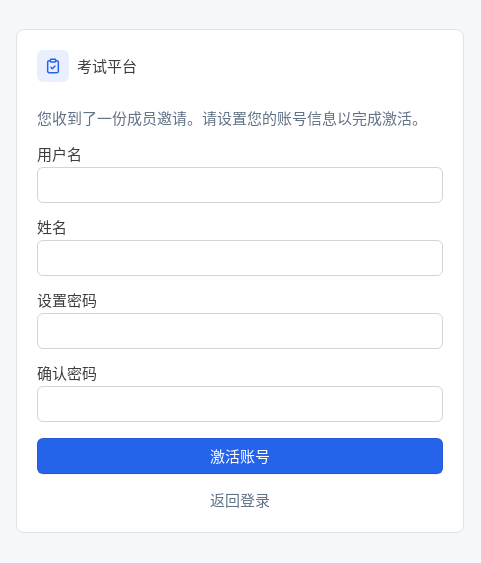
Scenario: public identity pages (#297) › invite-accept: mismatched confirmation blocks submission
Type "invited" into the field labelled "用户名". click: (240, 185)
box: [37,167,443,203]
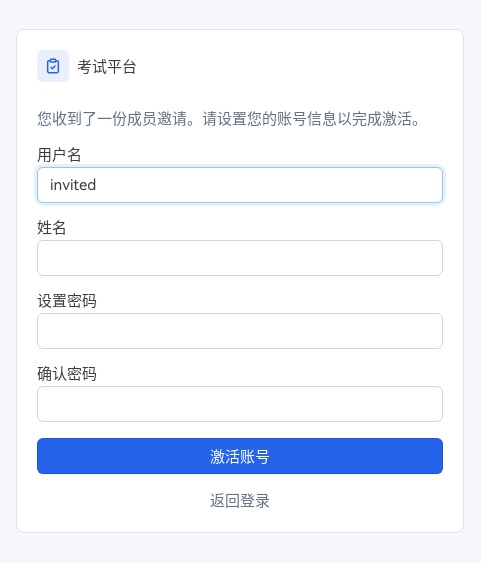
Type "受邀" into the field labelled "姓名". click: (240, 258)
box: [37,240,443,276]
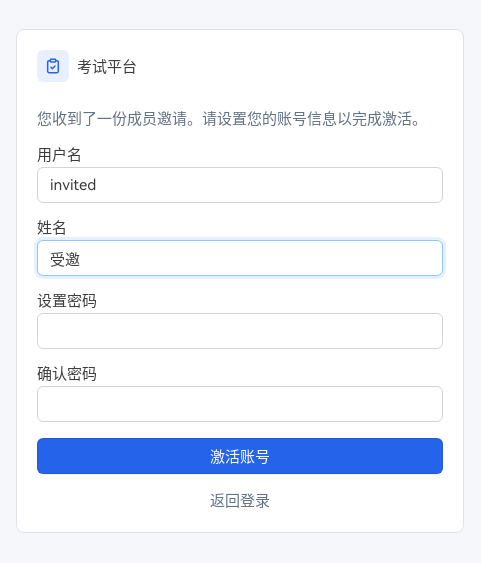
Type "Sup3rSecret!" into the password field labelled "设置密码". click: (240, 331)
box: [37,313,443,349]
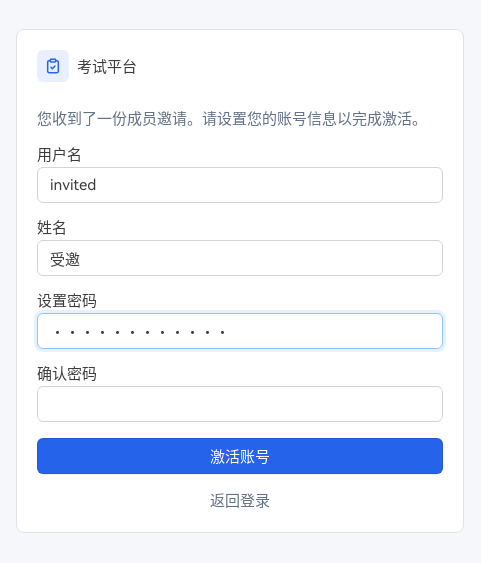
Type "Different1!" into the password field labelled "确认密码". click: (240, 404)
box: [37,386,443,422]
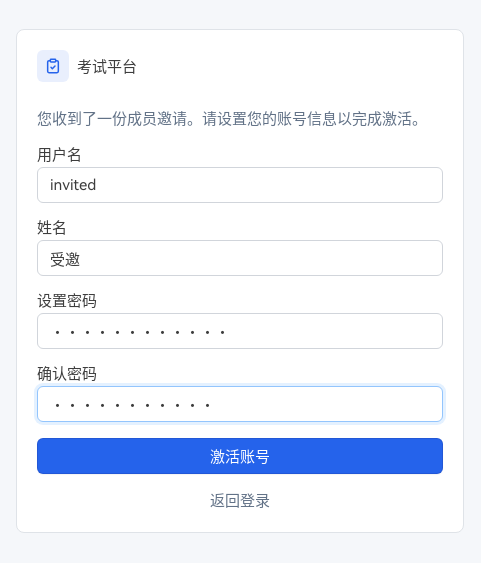
Click the button "激活账号". click: click(240, 456)
box: [37,438,443,474]
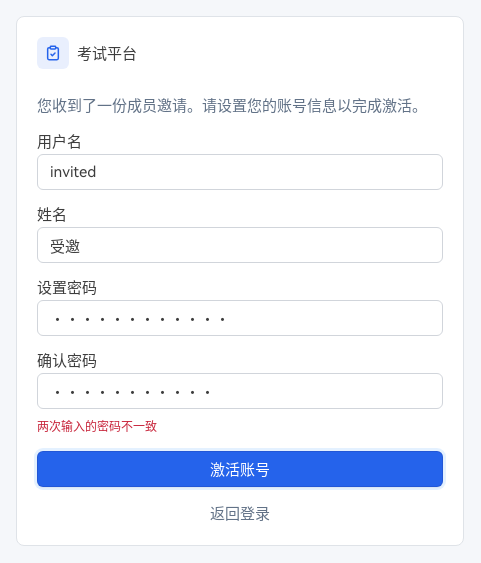
Now the text "两次输入的密码不一致" is shown, box [37,420,157,434]
